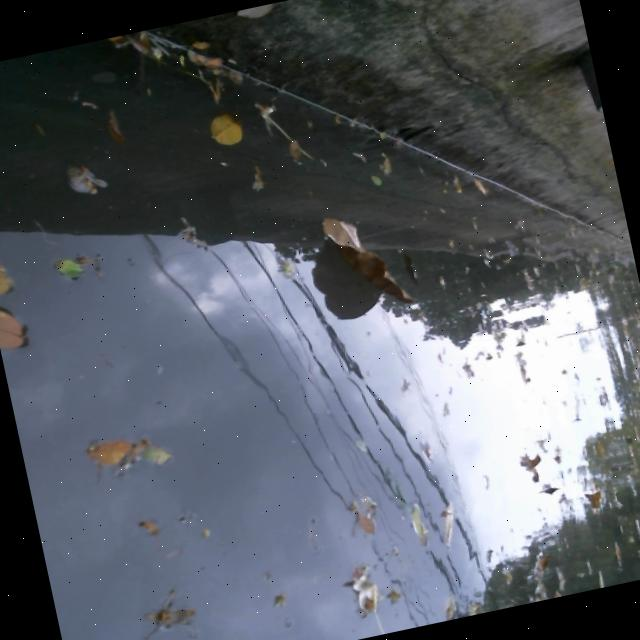Big-leaf: (311, 200, 421, 323)
Small-leaf: (339, 558, 390, 621), (79, 429, 138, 476), (118, 26, 173, 76), (202, 109, 251, 153), (0, 300, 36, 357), (145, 599, 202, 635), (60, 158, 103, 205), (433, 497, 468, 549), (403, 499, 436, 553), (131, 439, 181, 473), (97, 105, 131, 150), (48, 251, 89, 287), (349, 502, 381, 540), (129, 511, 165, 543), (0, 255, 22, 299), (527, 547, 556, 580), (520, 451, 546, 485), (437, 589, 464, 621), (243, 163, 269, 195), (581, 482, 606, 515), (285, 136, 310, 168), (468, 171, 492, 201), (348, 434, 373, 456), (377, 150, 396, 178), (448, 172, 468, 197), (461, 600, 486, 617), (435, 397, 454, 418), (367, 172, 384, 189)
